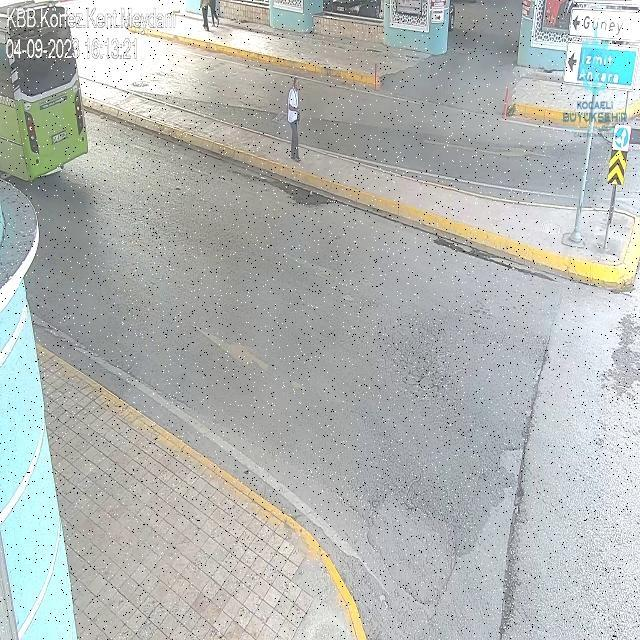Car: (5, 0, 95, 193)
